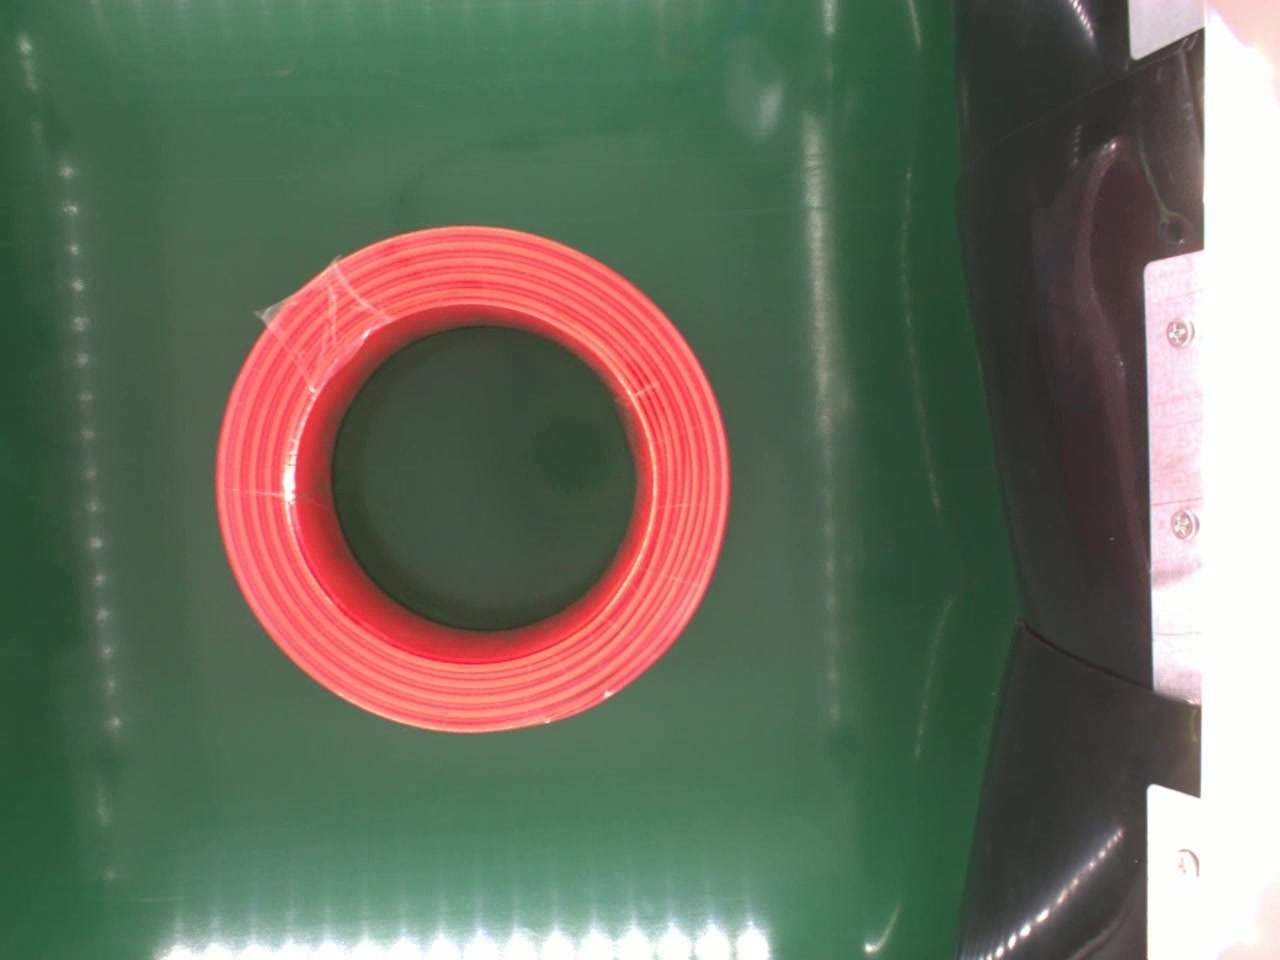red: (209, 220, 739, 744)
